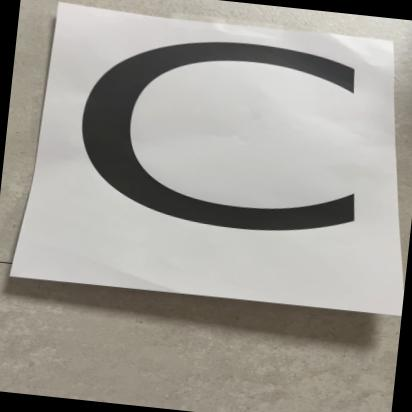seat: (34, 3, 412, 302)
